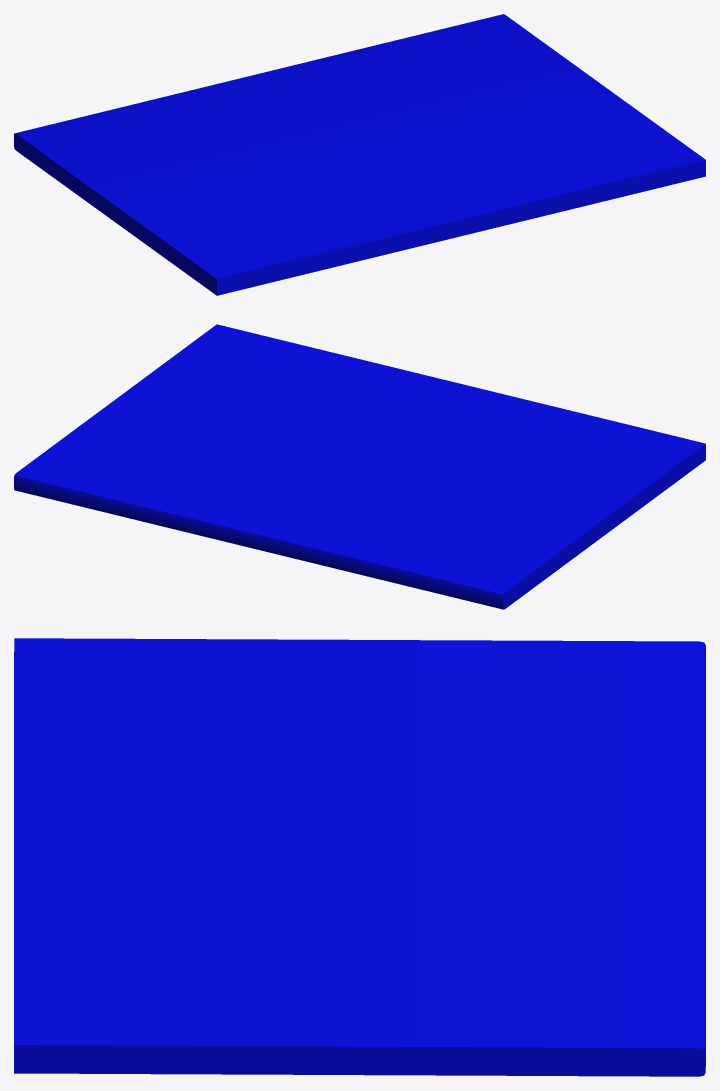
File: Magazine_Closed.FBX
3 views of the same model, one above another, from view 1: azimuth 30°, elevation 25°; view 2: azimuth 150°, elevation 25°; view 3: azimuth 270°, elevation 25° (orthographic). The views are drawn at different scales.
Parts seen in each view (by area): view 1: Magazine_Closed; view 2: Magazine_Closed; view 3: Magazine_Closed.
Boxes of the visible parts, left/top/right/bottom form: Magazine_Closed: left=14, top=14, right=705, bottom=295; Magazine_Closed: left=14, top=324, right=705, bottom=609; Magazine_Closed: left=14, top=638, right=705, bottom=1076.
Bounding box in the file's own units: 8.38 × 0.3044 × 6.02.
